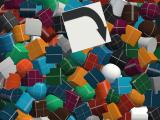Right: (61, 1, 111, 53)
